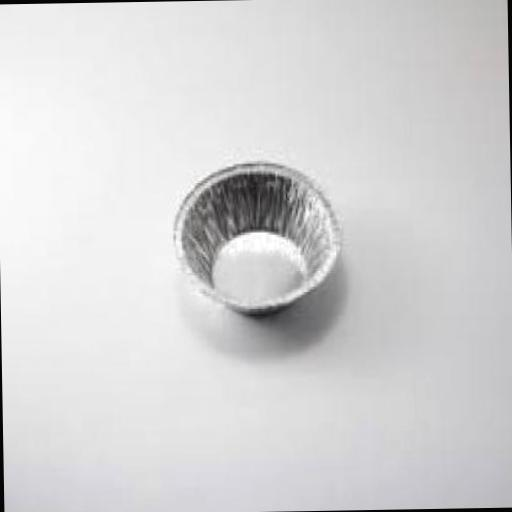metal: (170, 159, 341, 316)
